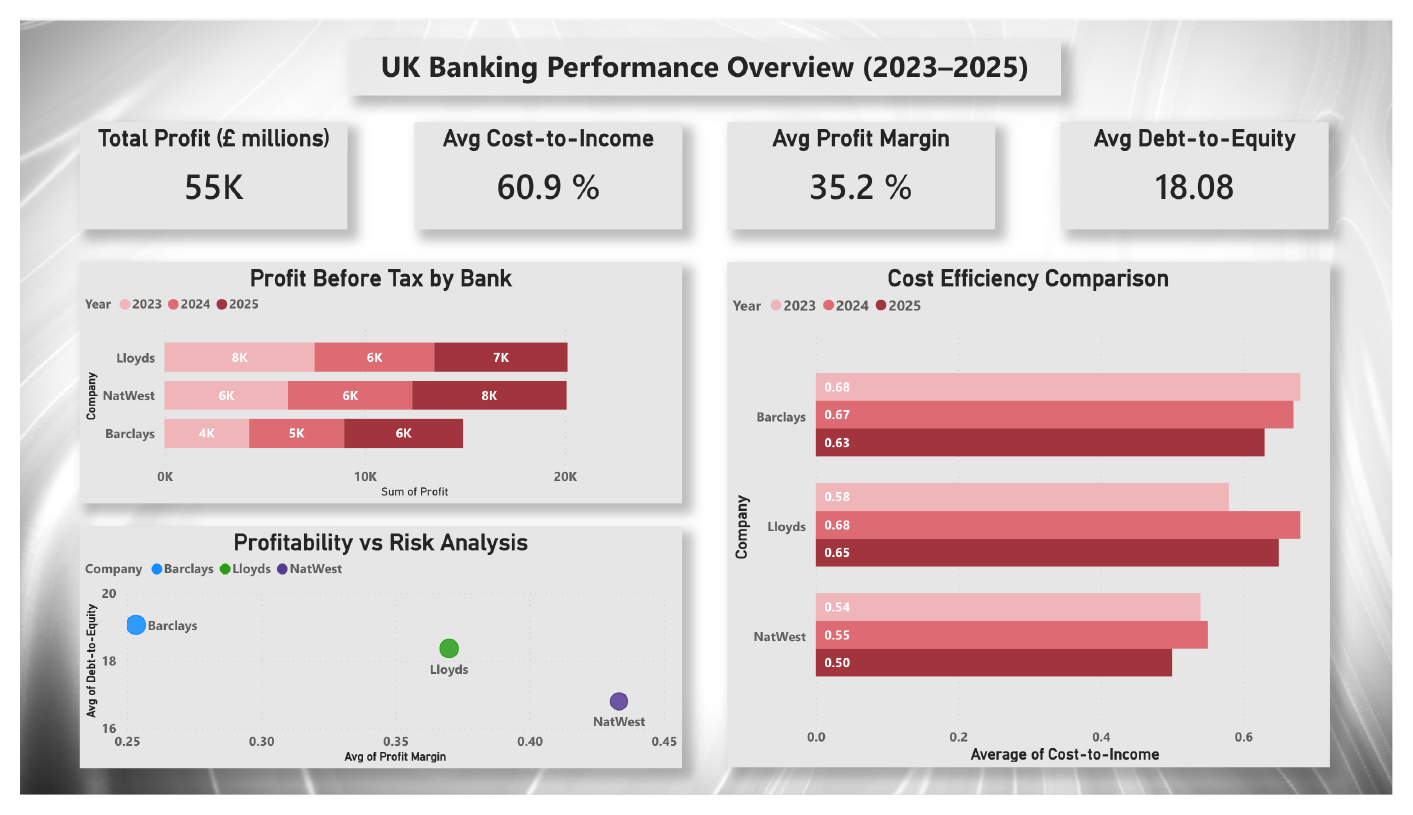

The dashboard page shown, as its layout file describes it:
{"tool":"powerbi","page":{"name":"Overview","canvas":[1280,720],"ordinal":0},"visuals":[{"type":"textbox","box":[307,13.6,662.4,57.5],"z":0},{"type":"cardVisual","title":"Total Profit (£ millions)","fields":{"Data":["Sum(bank_financial_analysis.Profit)"]},"box":[56,93.8,249.5,84.7],"z":1000},{"type":"cardVisual","title":"Avg Cost-to-Income","fields":{"Data":["Avg(bank_financial_analysis.Cost-to-Income)"]},"box":[367.5,93.8,249.5,84.7],"z":2000},{"type":"cardVisual","title":"Avg Profit Margin","fields":{"Data":["Avg(bank_financial_analysis.Profit Margin)"]},"box":[657.9,93.8,249.5,84.7],"z":3000},{"type":"cardVisual","title":"Avg Debt-to-Equity","fields":{"Data":["Avg(bank_financial_analysis.Debt-to-Equity)"]},"box":[969.4,93.8,249.5,84.7],"z":4000},{"type":"scatterChart","title":"Profitability vs Risk Analysis","fields":{"Series":["bank_financial_analysis.Company"],"Size":["Sum(bank_financial_analysis.Income)"],"X":["Avg(bank_financial_analysis.Profit Margin)"],"Y":["bank_financial_analysis.Debt-to-Equity"]},"box":[56,468.8,561.1,225.3],"z":5000},{"type":"barChart","title":"Profit Before Tax by Bank","fields":{"Category":["bank_financial_analysis.Company"],"Series":["bank_financial_analysis.Year"],"Y":["Sum(bank_financial_analysis.Profit)"]},"box":[56,210.2,561.1,225.3],"z":6000},{"type":"clusteredBarChart","title":"Cost Efficiency Comparison","fields":{"Category":["bank_financial_analysis.Company"],"Series":["bank_financial_analysis.Year"],"Y":["Avg(bank_financial_analysis.Cost-to-Income)"]},"box":[657.9,210.2,561.1,484],"z":7000}]}

Visuals, with their boxes in screenshot pixels (x1, y1, x2, y2), scaled from the page's 1280x720 canvas onto the 1413x815 screenshot:
textbox: {"left": 339, "top": 15, "right": 1070, "bottom": 80}
"Total Profit (£ millions)" cardVisual: {"left": 62, "top": 106, "right": 337, "bottom": 202}
"Avg Cost-to-Income" cardVisual: {"left": 406, "top": 106, "right": 681, "bottom": 202}
"Avg Profit Margin" cardVisual: {"left": 726, "top": 106, "right": 1002, "bottom": 202}
"Avg Debt-to-Equity" cardVisual: {"left": 1070, "top": 106, "right": 1346, "bottom": 202}
"Profitability vs Risk Analysis" scatterChart: {"left": 62, "top": 531, "right": 681, "bottom": 786}
"Profit Before Tax by Bank" barChart: {"left": 62, "top": 238, "right": 681, "bottom": 493}
"Cost Efficiency Comparison" clusteredBarChart: {"left": 726, "top": 238, "right": 1346, "bottom": 786}
